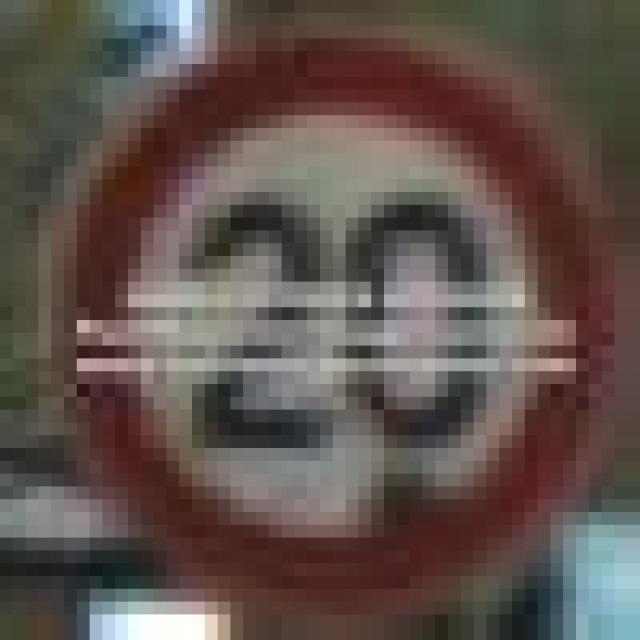SPEED_LIMIT_20: (40, 31, 613, 606)
